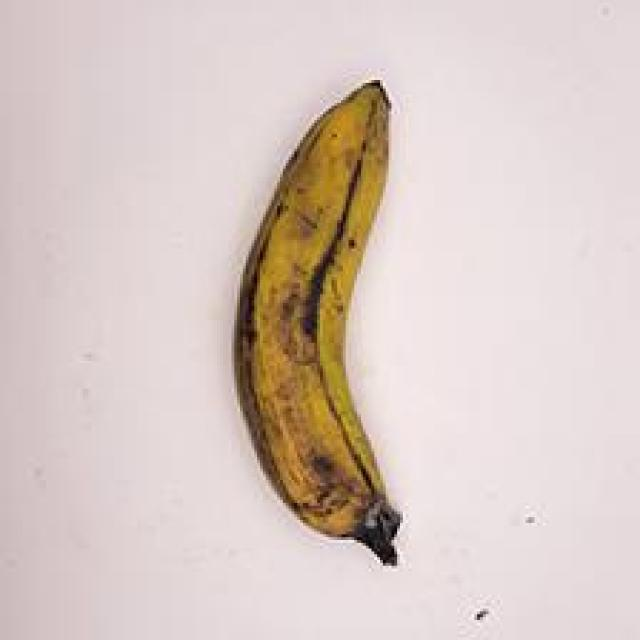Overripe: (190, 47, 494, 601)
